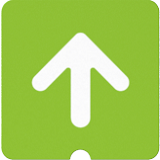up: (1, 1, 159, 160)
